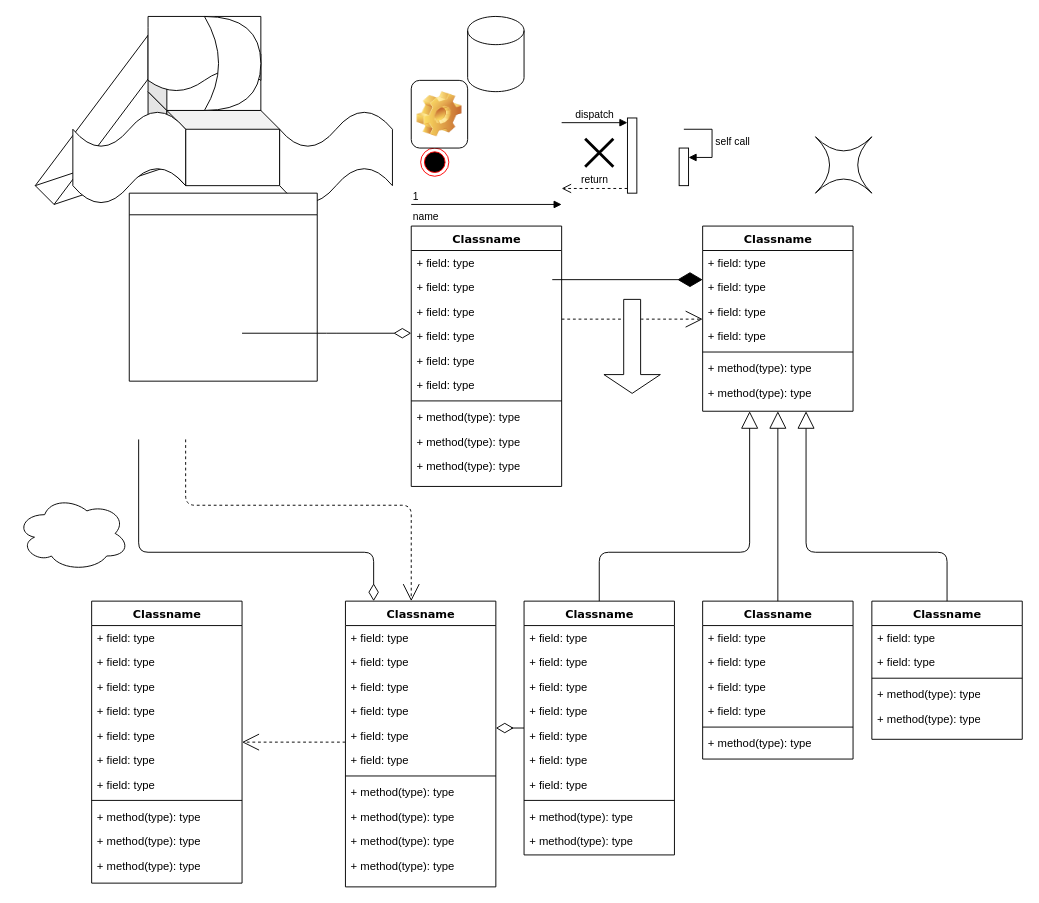
Image size: 1039x903. Some labels were removed from this diagram. The shapes that lost their labels are listed below. From the top down, each one's box as (x1, y1, x2, y2) in pixels, then its label:
(410, 79, 468, 148): Icon
(128, 192, 317, 381): Vertical Container
